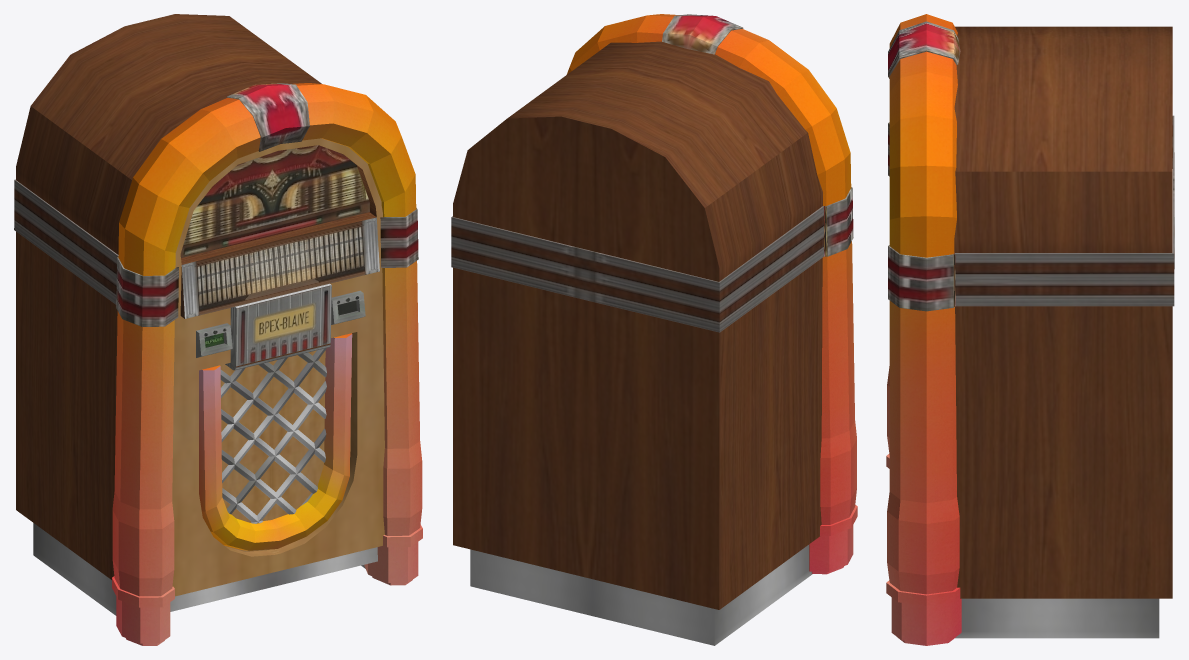
The model's file is PROP_junker_box.glb.
3 views of the same model, side by side, from view 1: azimuth 30°, elevation 25°; view 2: azimuth 150°, elevation 25°; view 3: azimuth 270°, elevation 25° (orthographic). The views are drawn at different scales.
Visible parts, largest first — view 1: base_junkebox, tubo.2, detalhe, vidro, tubo.1, grade; view 2: base_junkebox, detalhe, tubo.2; view 3: base_junkebox, tubo.2, detalhe.
Boxes of the visible parts, x1,y1,x2,y2 form: base_junkebox: (16,14,384,615); tubo.2: (112,83,422,645); detalhe: (14,83,418,326); vidro: (180,145,369,257); tubo.1: (199,333,352,550); grade: (220,348,326,523); base_junkebox: (453,41,822,645); detalhe: (451,14,853,332); tubo.2: (566,14,857,574); base_junkebox: (954,26,1172,638); tubo.2: (886,14,961,645); detalhe: (888,21,1174,311).
Size of the model in its own units: 0.9908 by 1.65 by 0.7921.
Materials: 5 (5 with a texture image).
